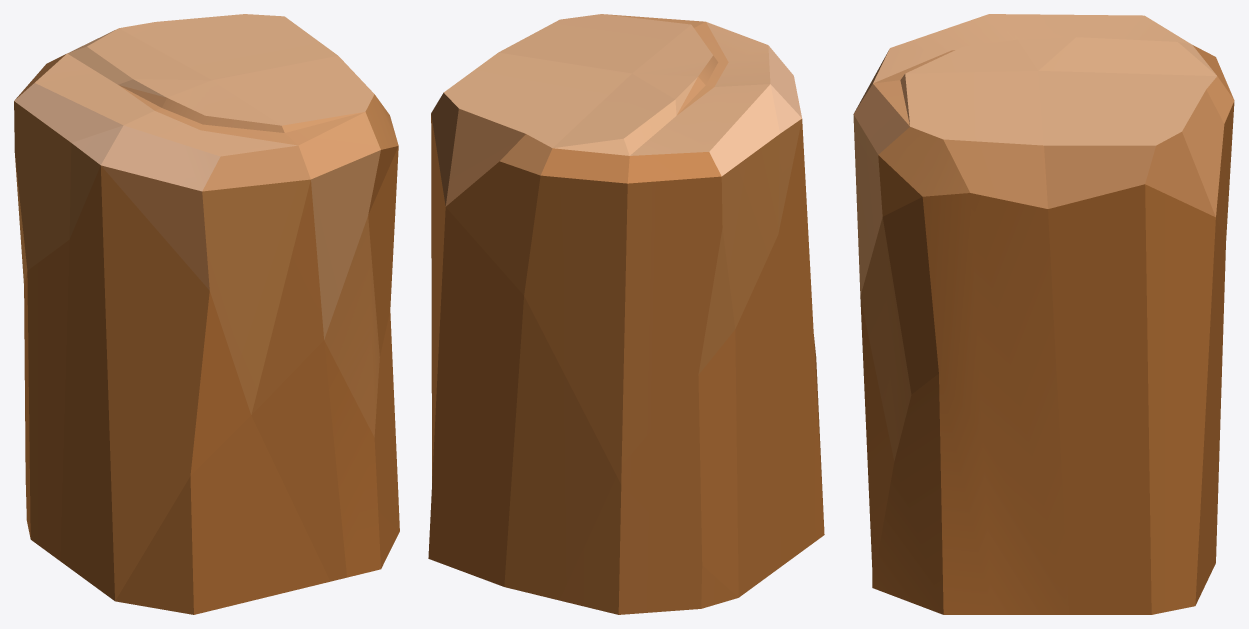
The model's file is stone_003.fbx.
3 renders of one model, left to right at view 1: azimuth 30°, elevation 25°; view 2: azimuth 150°, elevation 25°; view 3: azimuth 270°, elevation 25°, orthographic. The views are drawn at different scales.
Visible parts, largest first — view 1: stone_003; view 2: stone_003; view 3: stone_003.
Boxes of the visible parts, bbox=[...] form: stone_003: bbox=[14, 14, 399, 614]; stone_003: bbox=[428, 14, 824, 614]; stone_003: bbox=[853, 14, 1234, 614].
Size of the model in its own units: 103 by 156 by 113.
